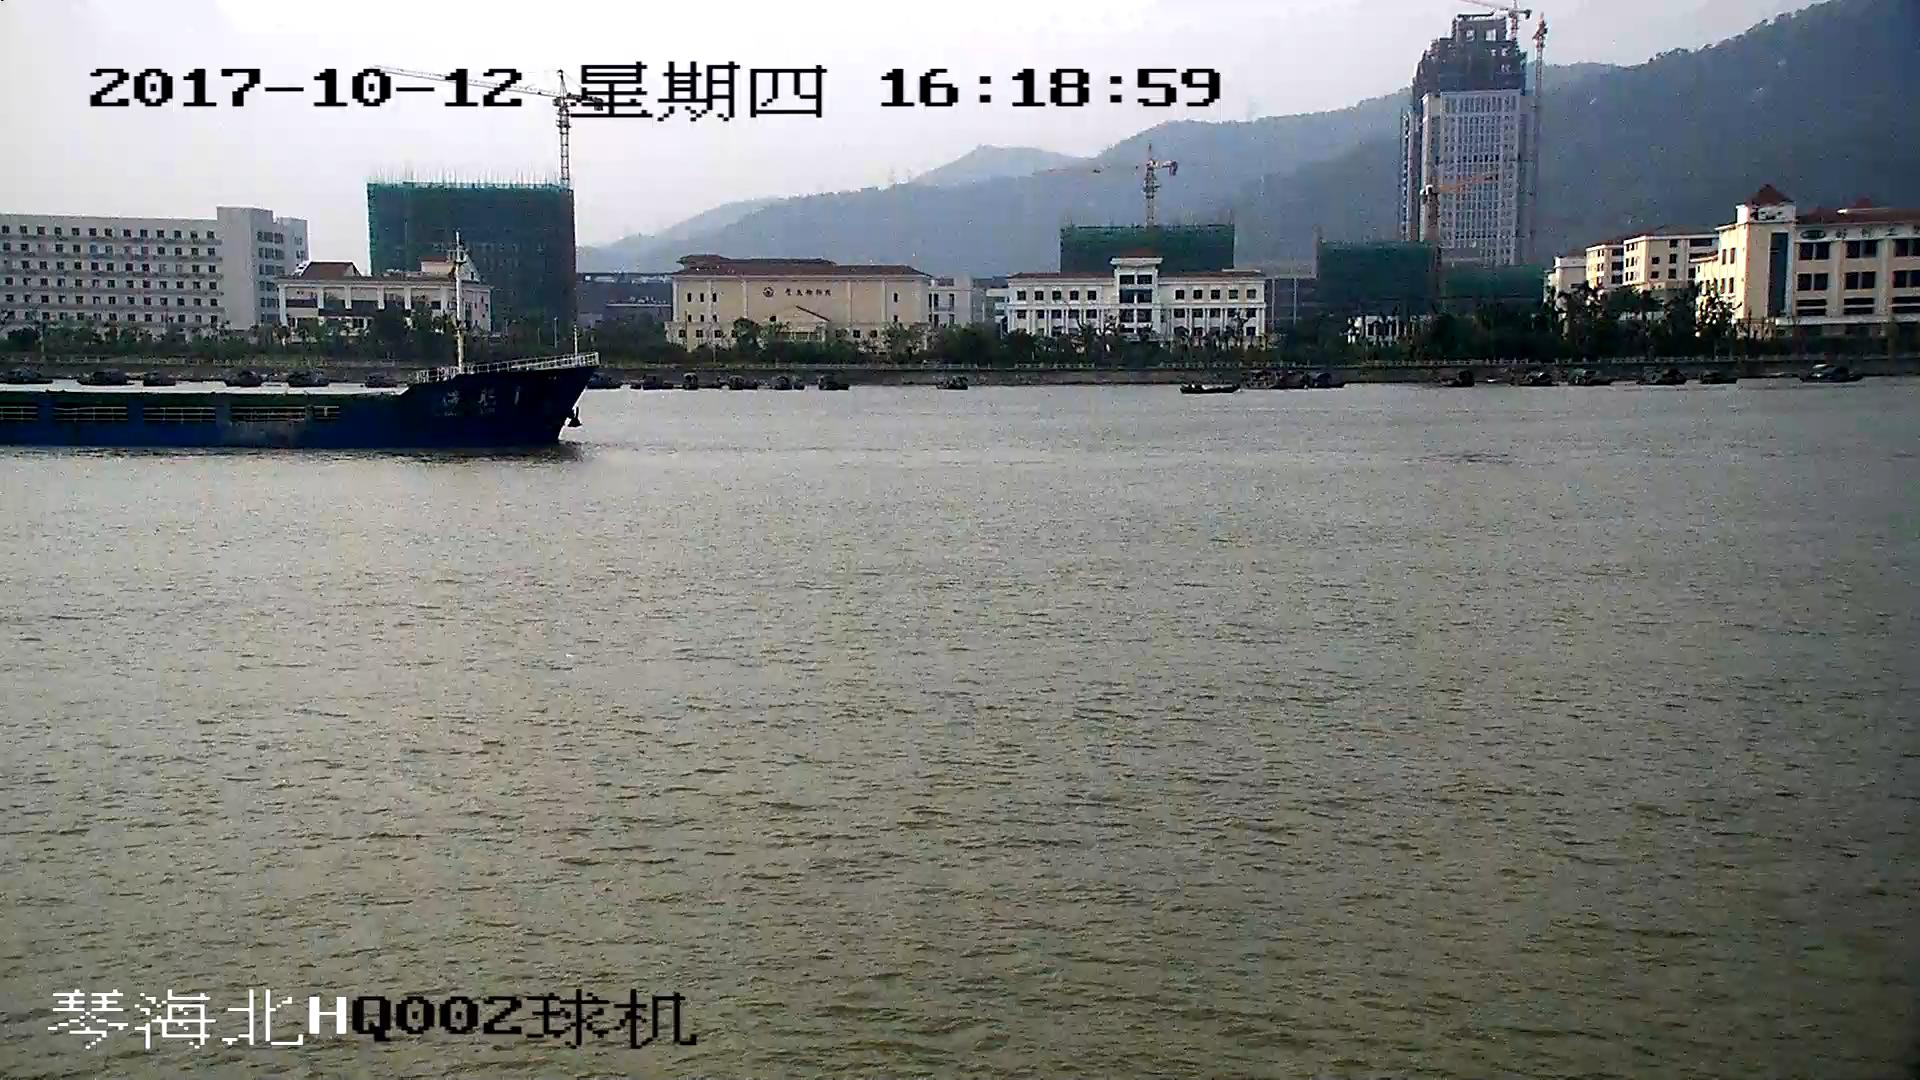general cargo ship: (1, 350, 600, 445)
